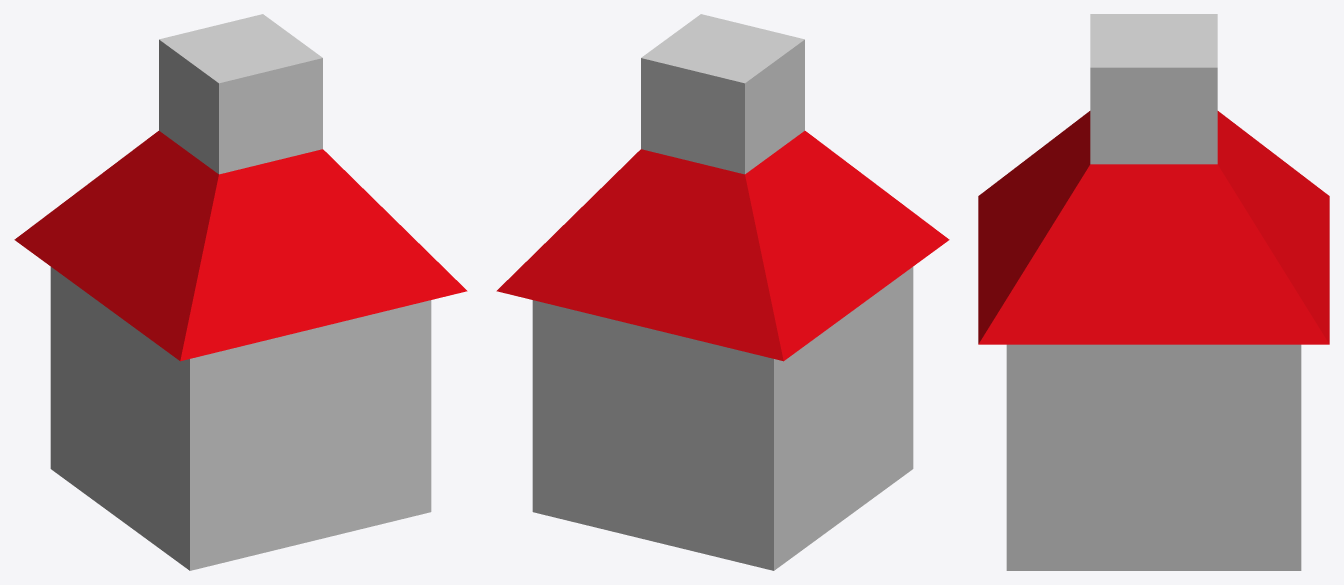
3 renders of one model, left to right at view 1: azimuth 30°, elevation 25°; view 2: azimuth 150°, elevation 25°; view 3: azimuth 270°, elevation 25°, orthographic. The views are drawn at different scales.
Visible parts, largest first — view 1: Cube, Cube.001, Cube.002; view 2: Cube, Cube.001, Cube.002; view 3: Cube, Cube.001, Cube.002.
Boxes of the visible parts, <box> form: Cube: <box>50,267,431,570</box>; Cube.001: <box>14,131,467,361</box>; Cube.002: <box>159,14,322,174</box>; Cube: <box>532,267,913,570</box>; Cube.001: <box>496,131,949,361</box>; Cube.002: <box>641,14,804,174</box>; Cube: <box>1006,344,1301,570</box>; Cube.001: <box>978,111,1329,344</box>; Cube.002: <box>1090,14,1217,164</box>.
Size of the model in its own units: 2.38 by 3.5 by 2.38.
